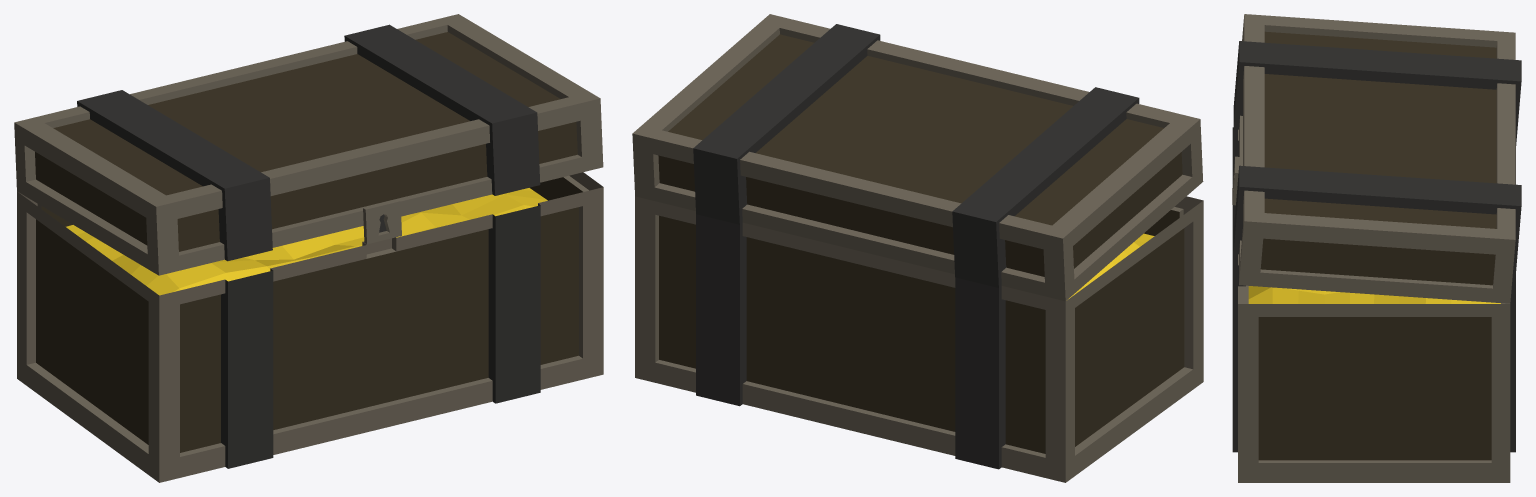
File: Cofre-Común.fbx
3 views of the same model, side by side, from view 1: azimuth 30°, elevation 25°; view 2: azimuth 150°, elevation 25°; view 3: azimuth 270°, elevation 25° (orthographic). The views are drawn at different scales.
Visible parts, largest first — view 1: Cube, Cube.004; view 2: Cube, Cube.004; view 3: Cube.004, Cube.
Part boxes in pixels (x1,y1,x2,y2): Cube: (17, 172, 603, 482); Cube.004: (14, 14, 603, 275); Cube: (635, 196, 1203, 482); Cube.004: (632, 14, 1203, 301); Cube.004: (1232, 14, 1521, 303); Cube: (1232, 127, 1515, 482).
Size of the model in its own units: 200 by 119 by 118.
